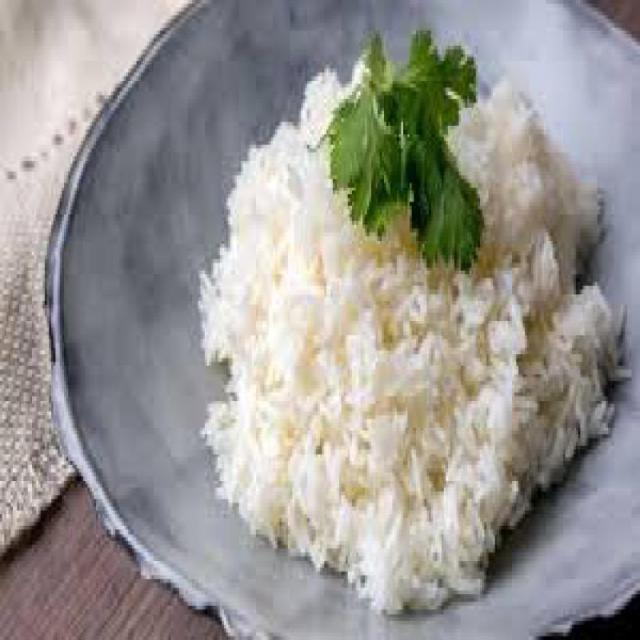nasi_putih: (200, 51, 630, 620)
